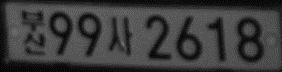1: (205, 16, 232, 61)
2: (145, 14, 172, 60)
6: (175, 14, 202, 61)
8: (236, 15, 264, 63)
9: (77, 11, 102, 57), (49, 10, 73, 56)
부산_V: (20, 9, 47, 56)
사: (108, 17, 133, 54)
